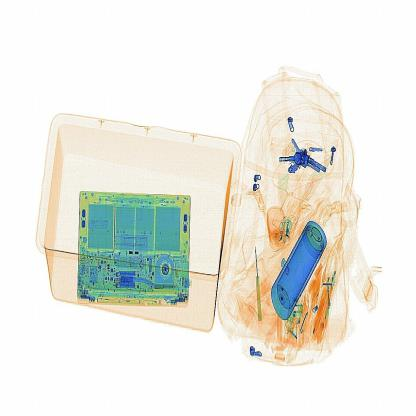wrench: (252, 243, 254, 326)
